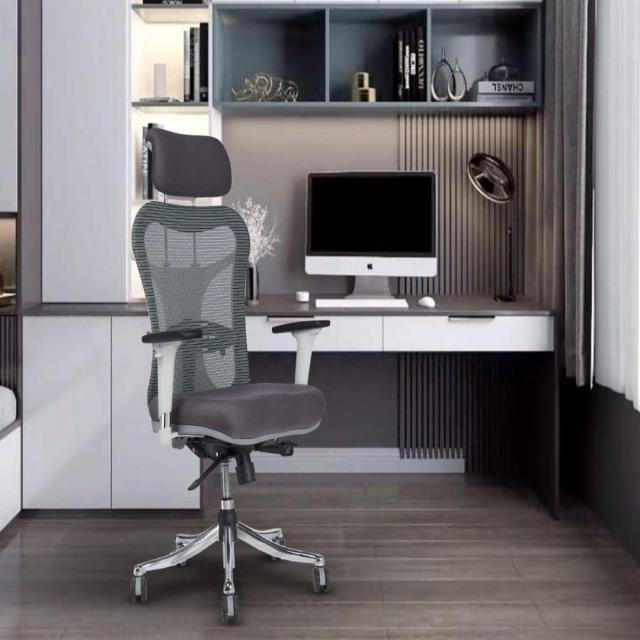chair: (115, 116, 334, 626)
